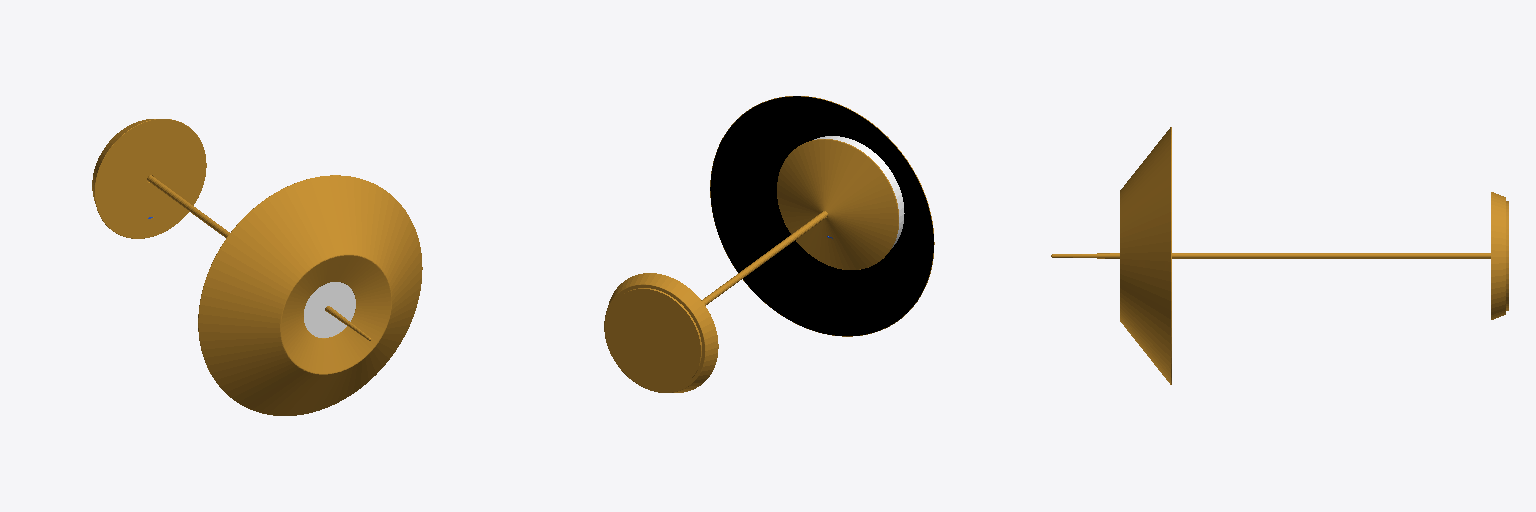
Rendered from Vibia_Mayfair_5505_mat(4).obj.
3 renders of one model, left to right at view 1: azimuth 30°, elevation 25°; view 2: azimuth 150°, elevation 25°; view 3: azimuth 270°, elevation 25°, orthographic.
Visible parts, largest first — view 1: Vibia_Mayfair_5505_mat4; view 2: Vibia_Mayfair_5505_mat4; view 3: Vibia_Mayfair_5505_mat4.
Part boxes in pixels (bbox=[...]): Vibia_Mayfair_5505_mat4: bbox=[92, 119, 422, 415]; Vibia_Mayfair_5505_mat4: bbox=[604, 96, 934, 392]; Vibia_Mayfair_5505_mat4: bbox=[1051, 127, 1508, 384].
Size of the model in its own units: 29.96 by 29.96 by 53.